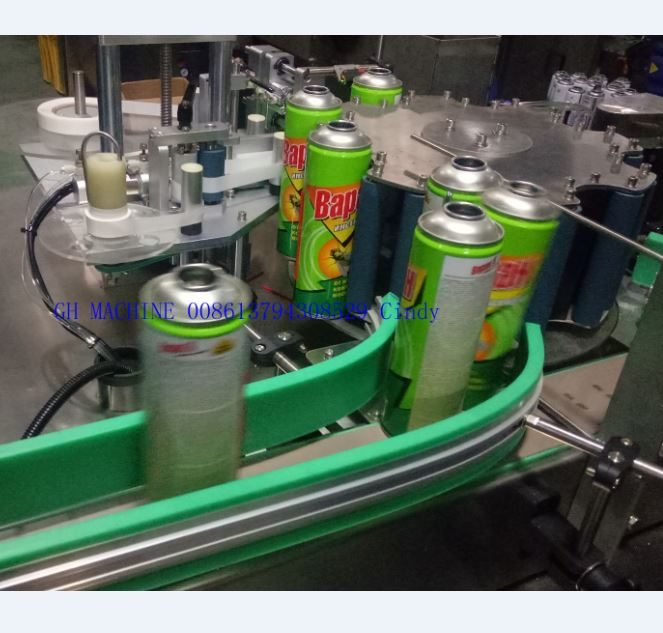Aerosol_cans: (381, 199, 506, 440), (138, 257, 254, 497), (289, 115, 377, 319)
